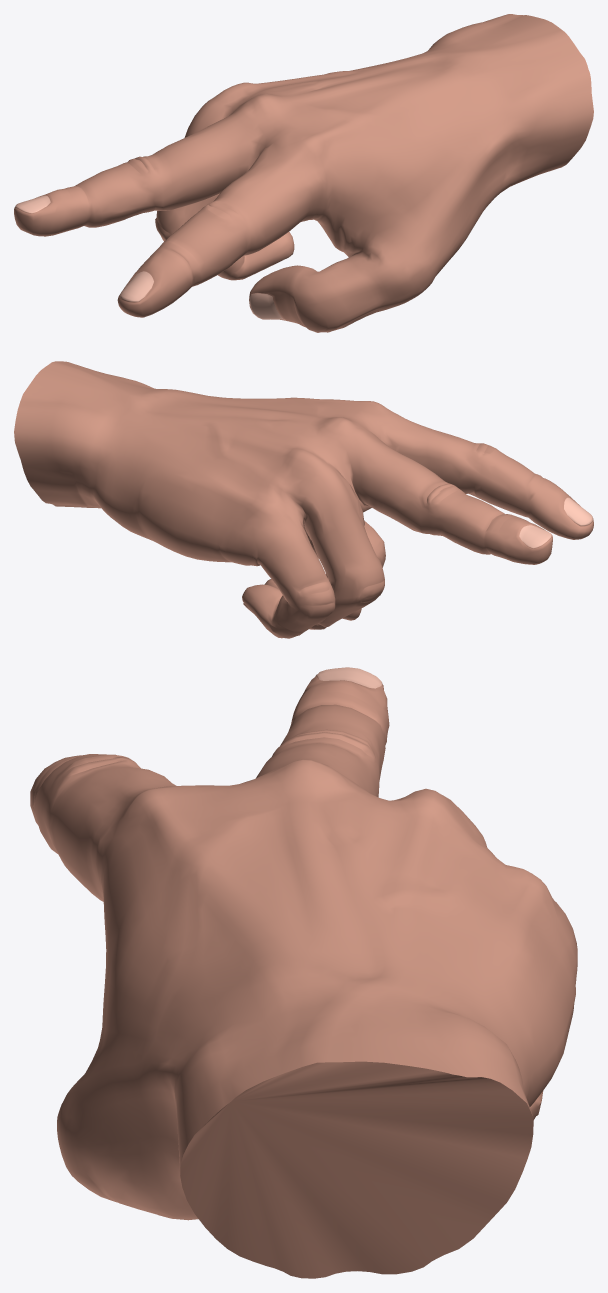
The model's file is hand_26.obj.
The picture shows the model from 3 angles, top to bottom: view 1: azimuth 30°, elevation 25°; view 2: azimuth 150°, elevation 25°; view 3: azimuth 270°, elevation 25°; orthographic projection. The views are drawn at different scales.
Parts seen in each view (by area): view 1: Figure_2; view 2: Figure_2; view 3: Figure_2.
Part boxes in pixels (x1=…): Figure_2: x1=14, y1=14, x2=593, y2=332; Figure_2: x1=14, y1=361, x2=593, y2=638; Figure_2: x1=30, y1=667, x2=577, y2=1278.
Size of the model in its own units: 0.8954 by 0.3436 by 0.4178.
